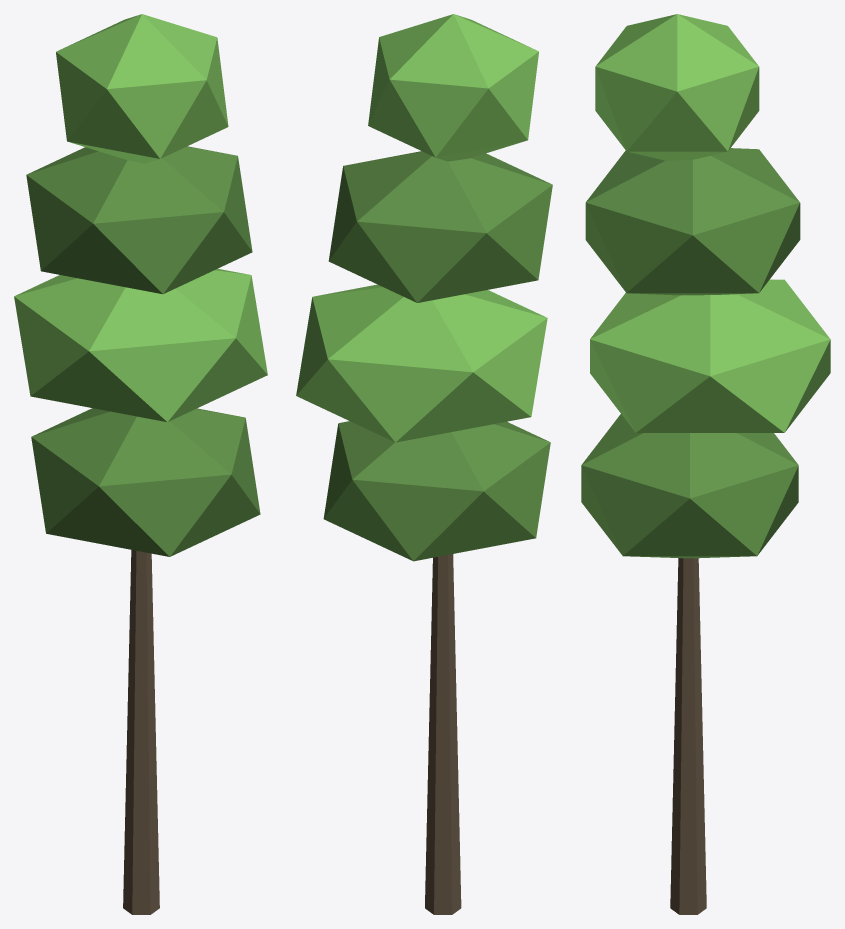
The model's file is columnar-v2-spring.glb.
The picture shows the model from 3 angles, left to right: view 1: azimuth 30°, elevation 25°; view 2: azimuth 150°, elevation 25°; view 3: azimuth 270°, elevation 25°; orthographic projection.
Visible parts, largest first — view 1: columnar_v2; view 2: columnar_v2; view 3: columnar_v2.
Boxes of the visible parts, x1,y1,x2,y2 form: columnar_v2: (14, 14, 267, 914); columnar_v2: (296, 14, 552, 914); columnar_v2: (581, 14, 830, 914).
Size of what is drawn, in the model's own units: 3.33 by 12.93 by 3.28.
